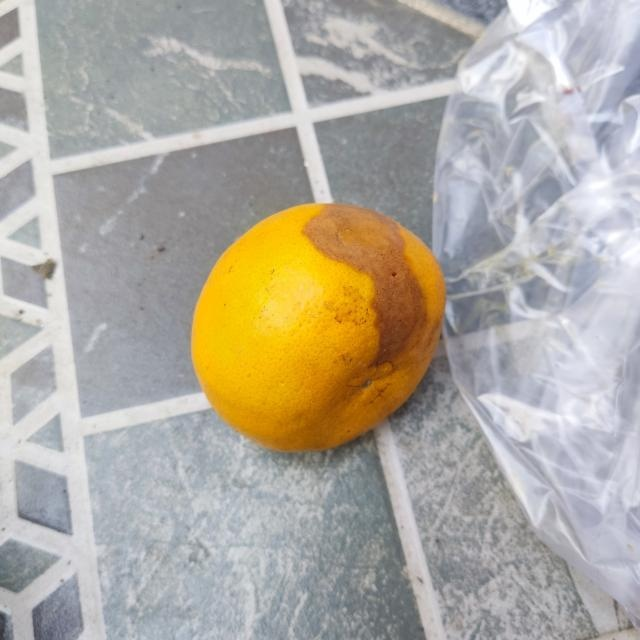agrume: (185, 200, 445, 454)
